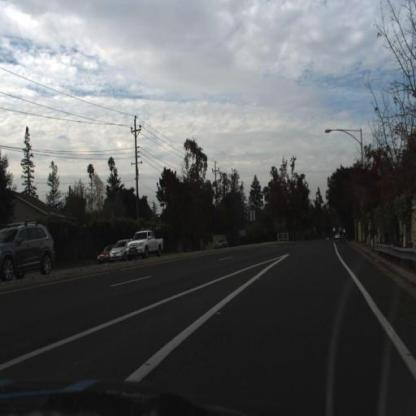car: (2, 222, 57, 282), (126, 228, 166, 261), (111, 237, 136, 266), (99, 245, 117, 264), (216, 238, 229, 250)
